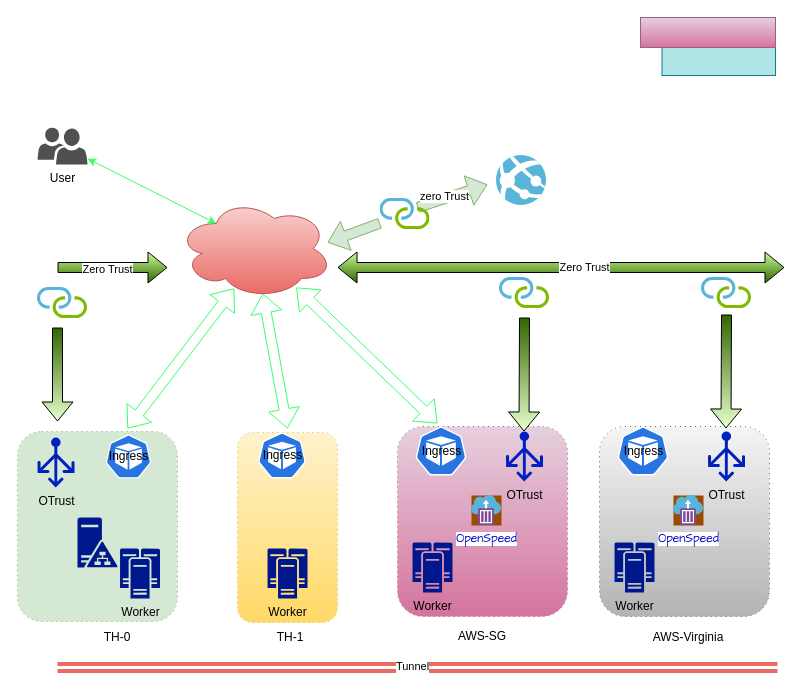
Some shapes in this 802 by 690 pixel diagram are drawn without their labels. Each missing label, with the centre of its shape:
Cloudflare: the point at 521,180
Internet: the point at 254,248
Mgmt: the point at 97,542
MyLAB: the point at 708,32
P.Itarun [25Jun22]: the point at 718,60
